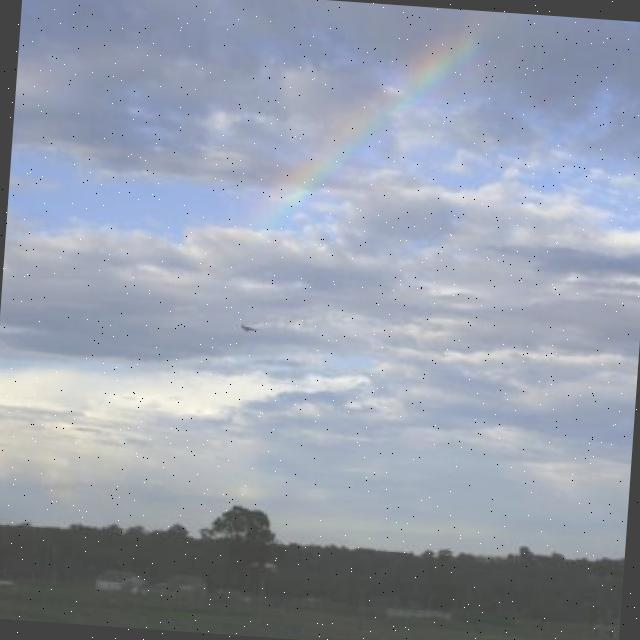Ac: (1, 1, 640, 504)
